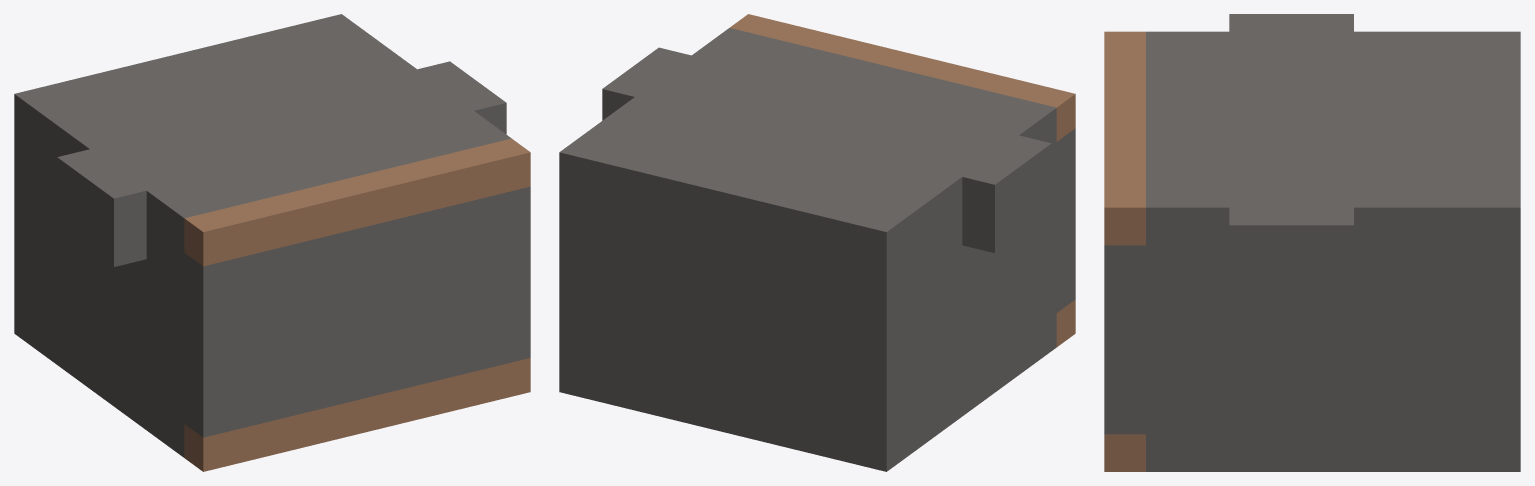
The model's file is olla_oxidado_01.glb.
3 views of the same model, side by side, from view 1: azimuth 30°, elevation 25°; view 2: azimuth 150°, elevation 25°; view 3: azimuth 270°, elevation 25° (orthographic). The views are drawn at different scales.
Parts seen in each view (by area): view 1: olla_oxidado; view 2: olla_oxidado; view 3: olla_oxidado.
Part boxes in pixels (left/top/right/bottom): olla_oxidado: left=14, top=14, right=530, bottom=471; olla_oxidado: left=559, top=14, right=1075, bottom=471; olla_oxidado: left=1104, top=14, right=1520, bottom=471.
Size of the model in its own units: 0.8571 by 0.5 by 0.7143.
